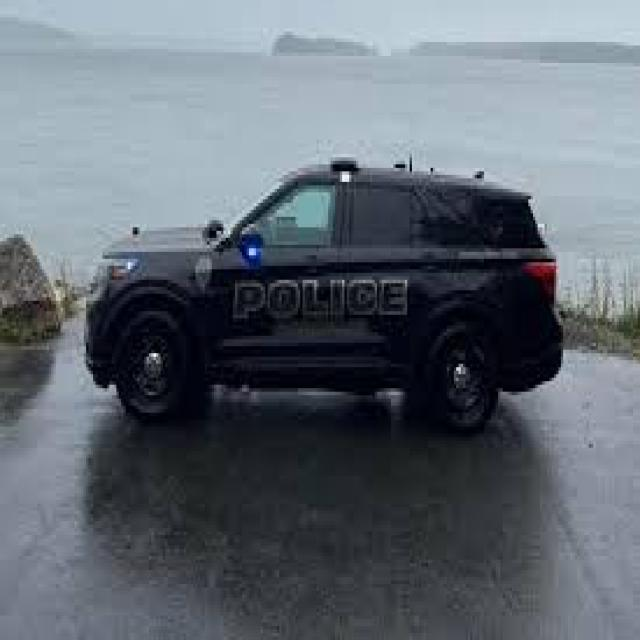cop: (86, 146, 566, 438)
